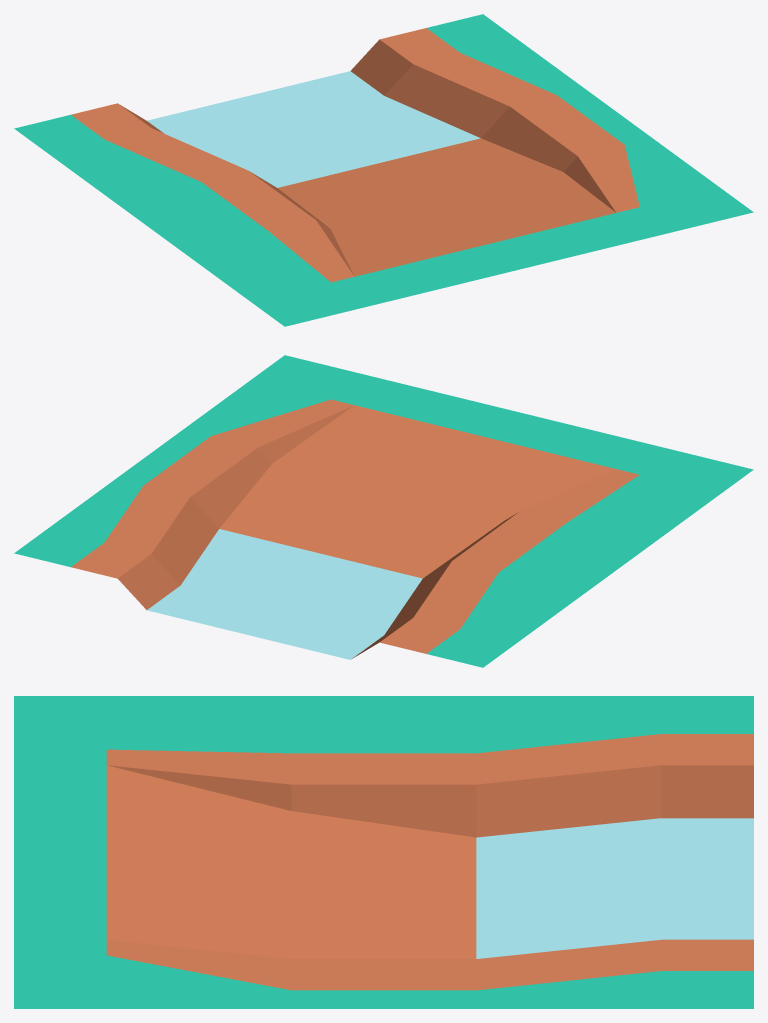
The model's file is ground_riverEnd.obj.
3 renders of one model, top to bottom at view 1: azimuth 30°, elevation 25°; view 2: azimuth 150°, elevation 25°; view 3: azimuth 270°, elevation 25°, orthographic. The views are drawn at different scales.
Parts seen in each view (by area): view 1: ground_riverEnd; view 2: ground_riverEnd; view 3: ground_riverEnd.
Boxes of the visible parts, x1,y1,x2,y2 form: ground_riverEnd: (14, 14, 753, 326); ground_riverEnd: (14, 355, 753, 667); ground_riverEnd: (14, 696, 753, 1008).
Size of the model in its own units: 1 by 0.05 by 1.
